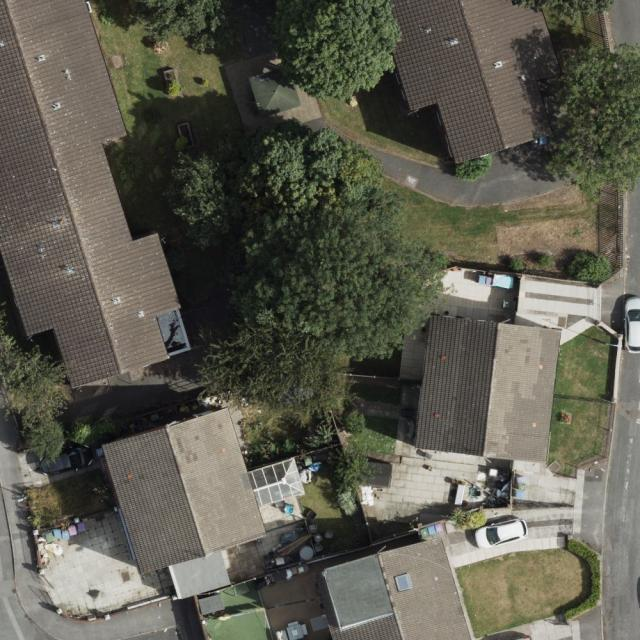roof: (0, 0, 183, 390), (392, 2, 560, 166), (104, 408, 266, 574), (413, 314, 563, 465), (314, 536, 471, 640)
skylight: (392, 571, 414, 594)
